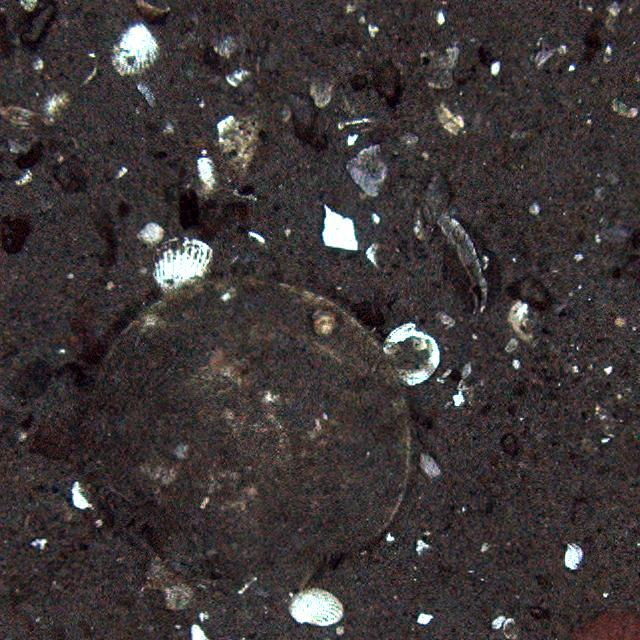whelk: (311, 307, 338, 338)
